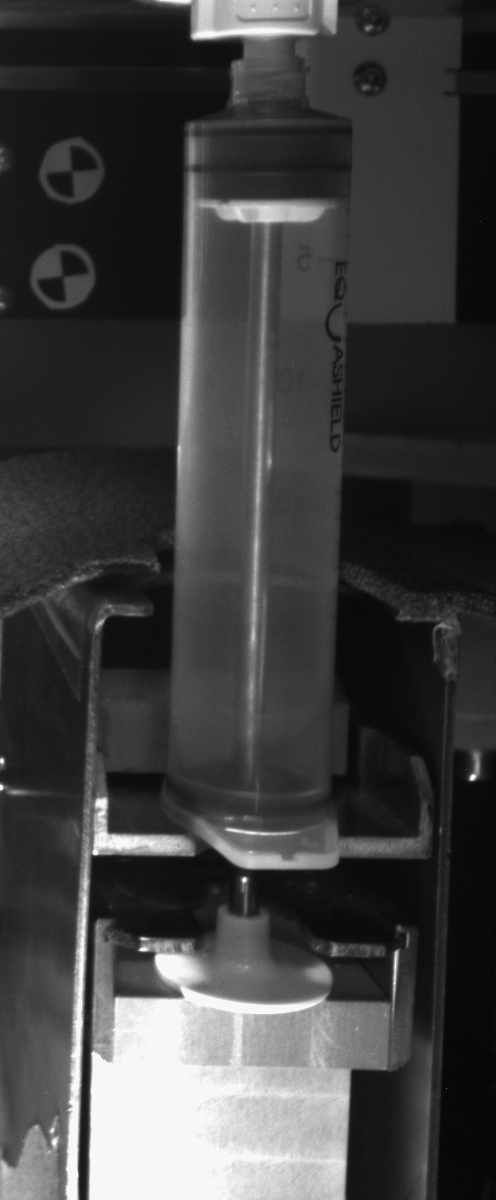piston: (182, 135, 356, 224)
